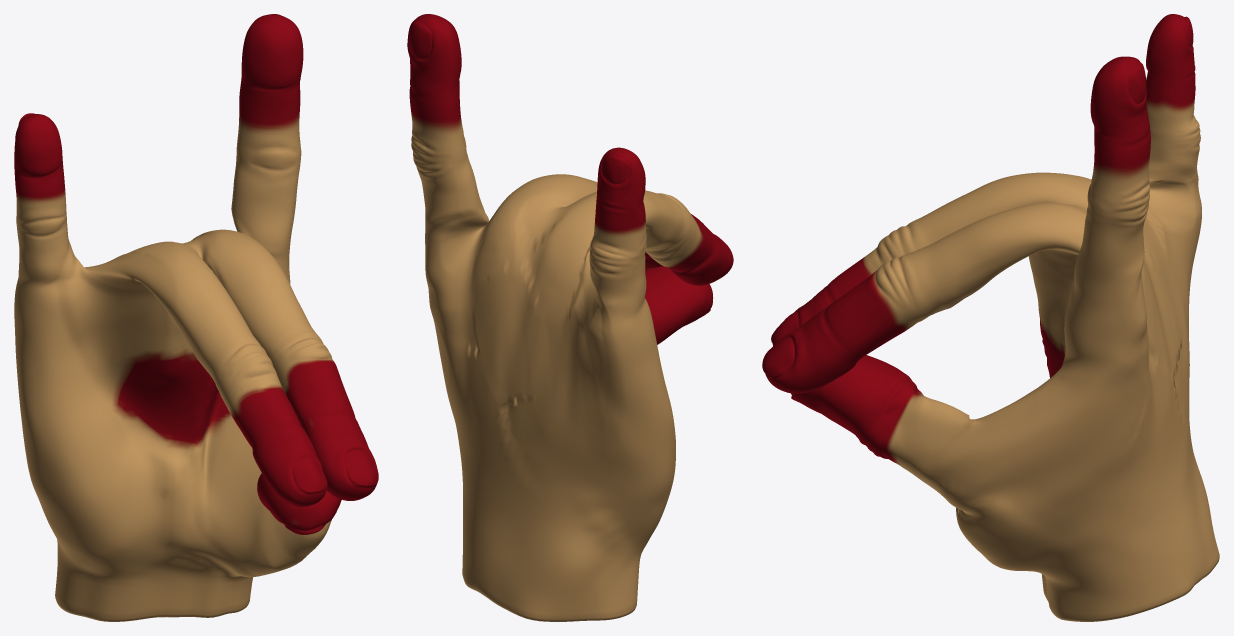
The model's file is simhamukha_coloured.glb.
3 views of the same model, side by side, from view 1: azimuth 30°, elevation 25°; view 2: azimuth 150°, elevation 25°; view 3: azimuth 270°, elevation 25° (orthographic). The views are drawn at different scales.
Parts seen in each view (by area): view 1: 16834_hand_v1_NEW; view 2: 16834_hand_v1_NEW; view 3: 16834_hand_v1_NEW.
Boxes of the visible parts, x1,y1,x2,y2 form: 16834_hand_v1_NEW: (14,14,378,621); 16834_hand_v1_NEW: (407,14,733,621); 16834_hand_v1_NEW: (762,14,1219,621).
Bounding box in the file's own units: 9.75 × 19.42 × 13.65.
